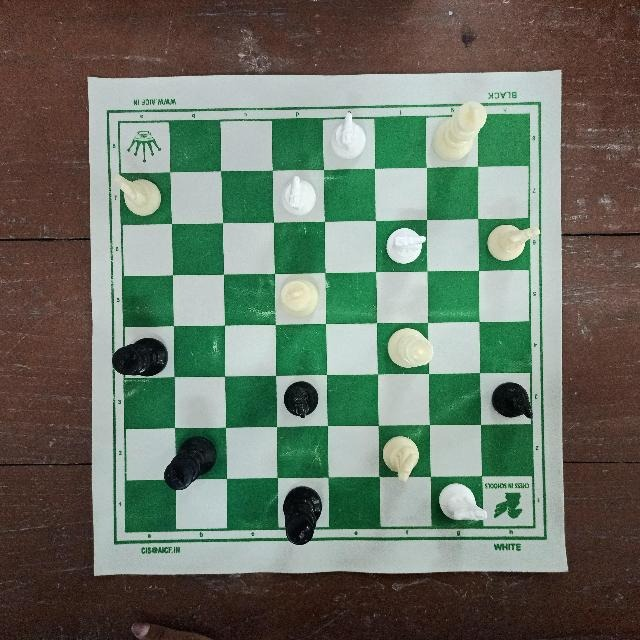black-king: (158, 433, 224, 494), (107, 330, 172, 385), (279, 483, 321, 546)
black-knight: (485, 380, 541, 424), (282, 377, 322, 421)
white-king: (432, 94, 488, 166), (273, 278, 327, 324)
white-knight: (107, 169, 167, 220), (377, 218, 430, 272), (327, 109, 373, 170), (483, 219, 541, 266), (433, 485, 491, 529), (274, 169, 322, 221), (379, 431, 425, 484)
white-queen: (378, 328, 434, 370)
